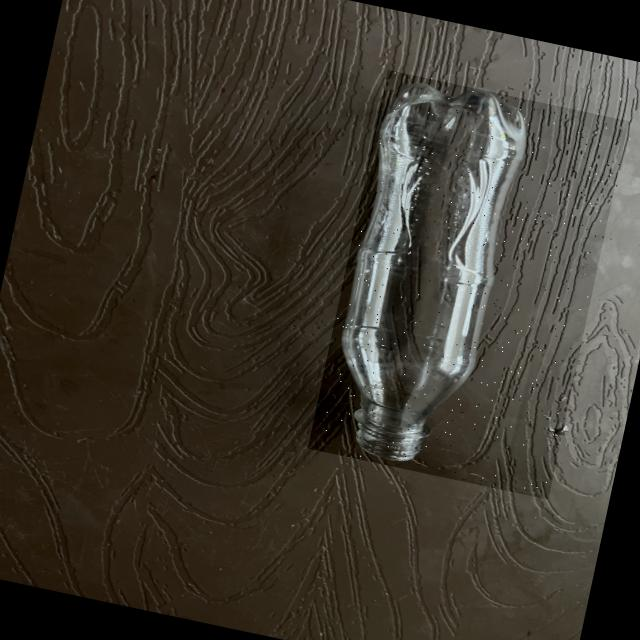PET_ClearBottle: (306, 67, 628, 498)
